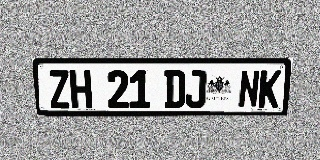1: (129, 70, 150, 108)
2: (107, 70, 129, 108)
D: (164, 70, 185, 108)
H: (69, 70, 92, 109)
J: (185, 70, 207, 108)
K: (258, 70, 281, 108)
N: (238, 70, 261, 108)
Z: (47, 70, 71, 109)
